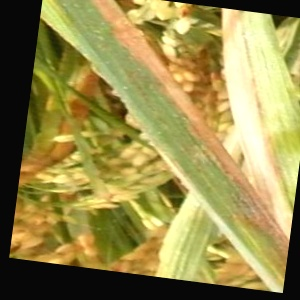Leaf_Blast: (41, 0, 141, 63)
